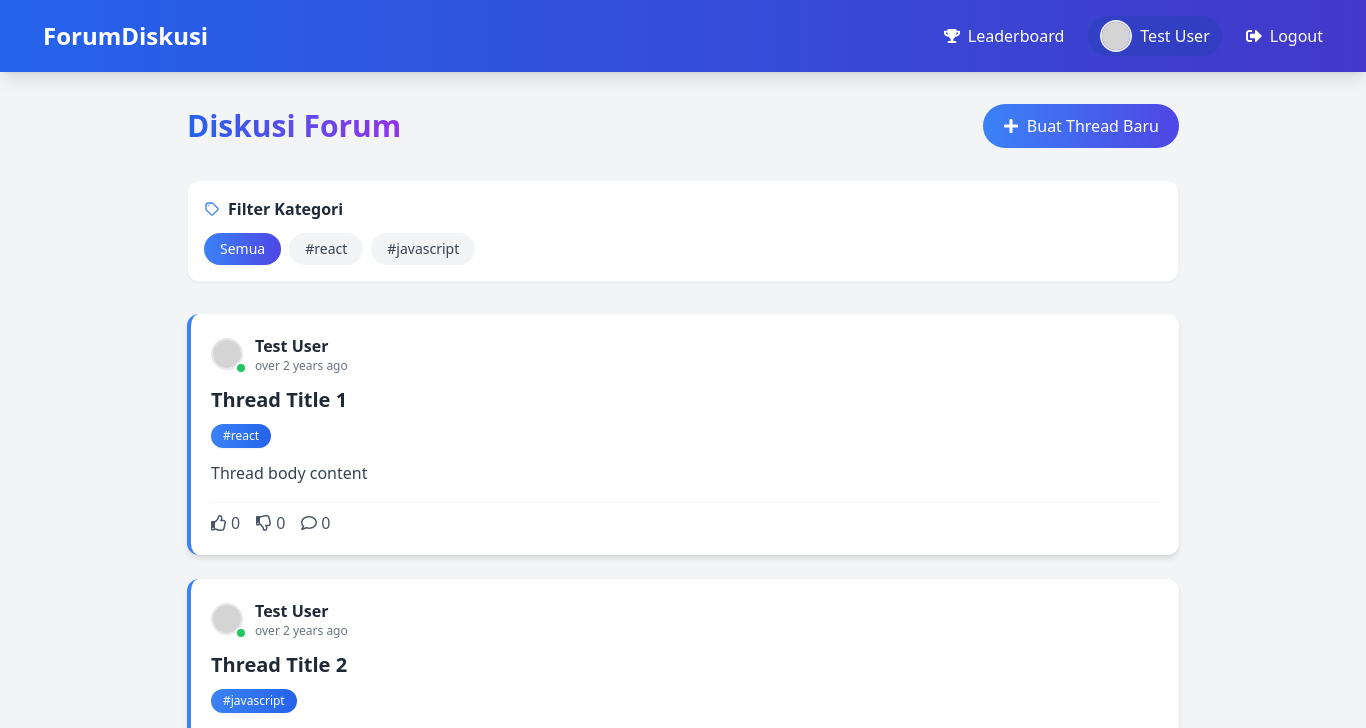
Test: Threads Flow › should navigate to thread detail page when thread is clicked
expect the element with test id "thread-item" is enabled: met
Wait for thread items to be visible and interactable with longer timeout for CI
Click the 1st element with test id "thread-item".
click(683, 435)  # box [187,314,1179,555]
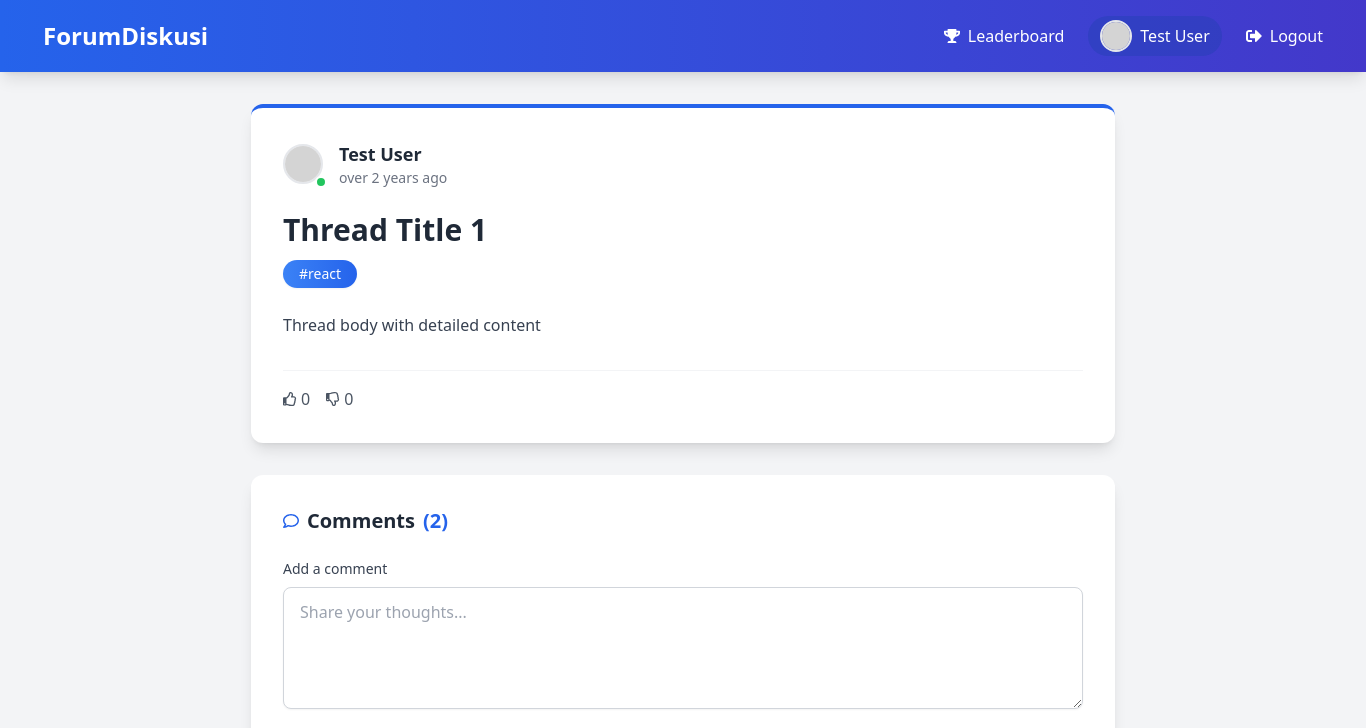
expect the heading with test id "thread-title" reads "Thread Title 1": met, box [283,209,487,250]
expect the text with test id "thread-body" reads "Thread body with detailed content": met, box [283,314,541,336]
